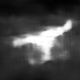plane: (9, 18, 80, 66)
